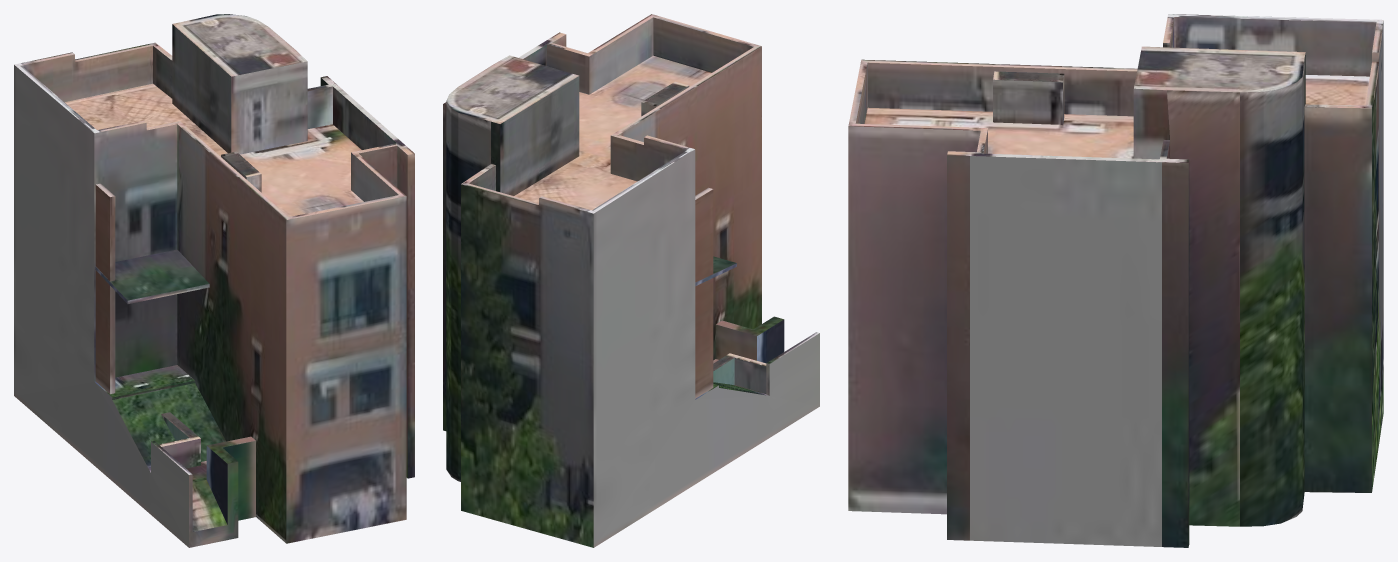
3 renders of one model, left to right at view 1: azimuth 30°, elevation 25°; view 2: azimuth 150°, elevation 25°; view 3: azimuth 270°, elevation 25°, orthographic. The views are drawn at different scales.
Parts seen in each view (by area): view 1: B280354041501063A0; view 2: B280354041501063A0; view 3: B280354041501063A0.
Part boxes in pixels (x1,y1,x2,y2): B280354041501063A0: (14, 14, 414, 547); B280354041501063A0: (443, 14, 819, 547); B280354041501063A0: (848, 14, 1383, 547).
Bounding box in the file's own units: 8.82 × 12.05 × 13.45.
Materials: 1 (1 with a texture image).
